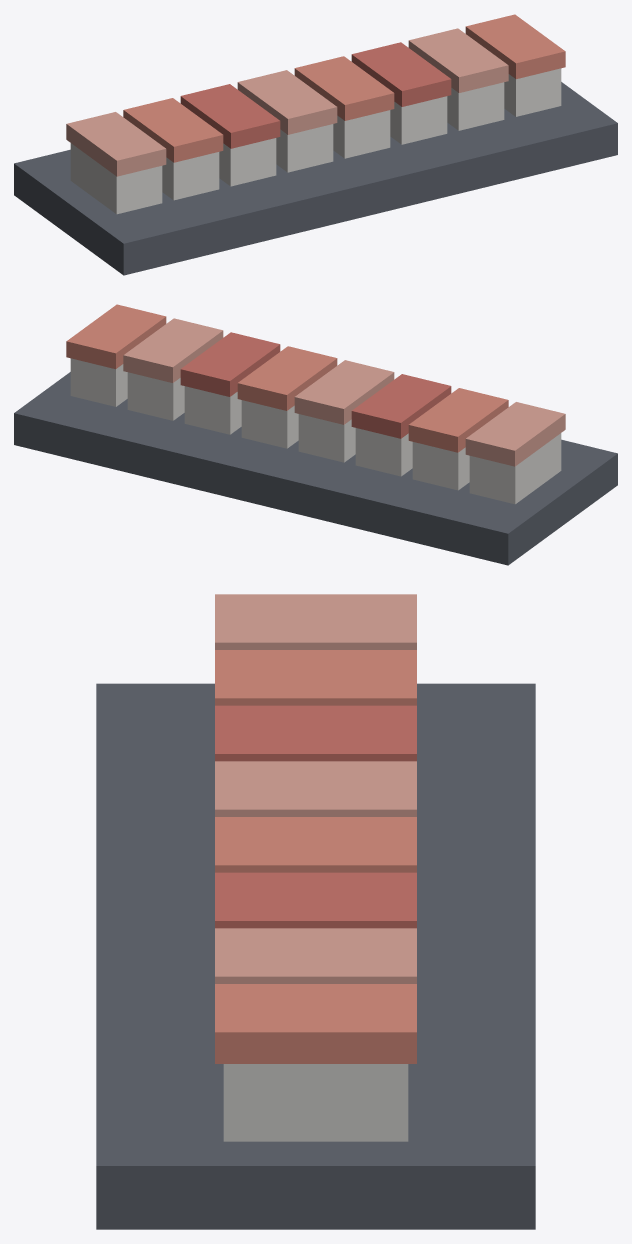
File: sushi.glb
3 renders of one model, top to bottom at view 1: azimuth 30°, elevation 25°; view 2: azimuth 150°, elevation 25°; view 3: azimuth 270°, elevation 25°, orthographic. The views are drawn at different scales.
Parts seen in each view (by area): view 1: geometry_0, geometry_2, geometry_4, geometry_10, geometry_12, geometry_16, geometry_14, geometry_6, geometry_8, geometry_1, geometry_5, geometry_11 (+5 smaller); view 2: geometry_0, geometry_2, geometry_4, geometry_10, geometry_12, geometry_16, geometry_14, geometry_6, geometry_8, geometry_1, geometry_5, geometry_11 (+5 smaller); view 3: geometry_0, geometry_16, geometry_15, geometry_6, geometry_12, geometry_2, geometry_4, geometry_8, geometry_10, geometry_14.
Boxes of the visible parts, x1=… form: geometry_0: x1=14, y1=82, x2=617, y2=275; geometry_2: x1=66, y1=112, x2=166, y2=176; geometry_4: x1=123, y1=98, x2=223, y2=162; geometry_10: x1=294, y1=56, x2=394, y2=120; geometry_12: x1=351, y1=42, x2=451, y2=106; geometry_16: x1=465, y1=14, x2=565, y2=79; geometry_14: x1=408, y1=28, x2=508, y2=92; geometry_6: x1=180, y1=84, x2=280, y2=148; geometry_8: x1=237, y1=70, x2=337, y2=134; geometry_1: x1=70, y1=143, x2=162, y2=214; geometry_5: x1=219, y1=138, x2=276, y2=186; geometry_11: x1=390, y1=96, x2=447, y2=144; geometry_0: x1=14, y1=372, x2=617, y2=565; geometry_2: x1=465, y1=402, x2=565, y2=466; geometry_4: x1=408, y1=388, x2=508, y2=452; geometry_10: x1=237, y1=346, x2=337, y2=410; geometry_12: x1=180, y1=332, x2=280, y2=396; geometry_16: x1=66, y1=304, x2=166, y2=369; geometry_14: x1=123, y1=318, x2=223, y2=382; geometry_6: x1=351, y1=374, x2=451, y2=438; geometry_8: x1=294, y1=360, x2=394, y2=424; geometry_1: x1=469, y1=433, x2=561, y2=504; geometry_5: x1=355, y1=428, x2=412, y2=476; geometry_11: x1=184, y1=386, x2=241, y2=434; geometry_0: x1=96, y1=683, x2=535, y2=1229; geometry_16: x1=215, y1=984, x2=416, y2=1063; geometry_15: x1=223, y1=1064, x2=408, y2=1141; geometry_6: x1=215, y1=705, x2=416, y2=761; geometry_12: x1=215, y1=872, x2=416, y2=928; geometry_2: x1=215, y1=594, x2=416, y2=649; geometry_4: x1=215, y1=650, x2=416, y2=705; geometry_8: x1=215, y1=761, x2=416, y2=816; geometry_10: x1=215, y1=817, x2=416, y2=872; geometry_14: x1=215, y1=928, x2=416, y2=983.
Bounding box in the file's own units: 2.6 × 0.44 × 1.
